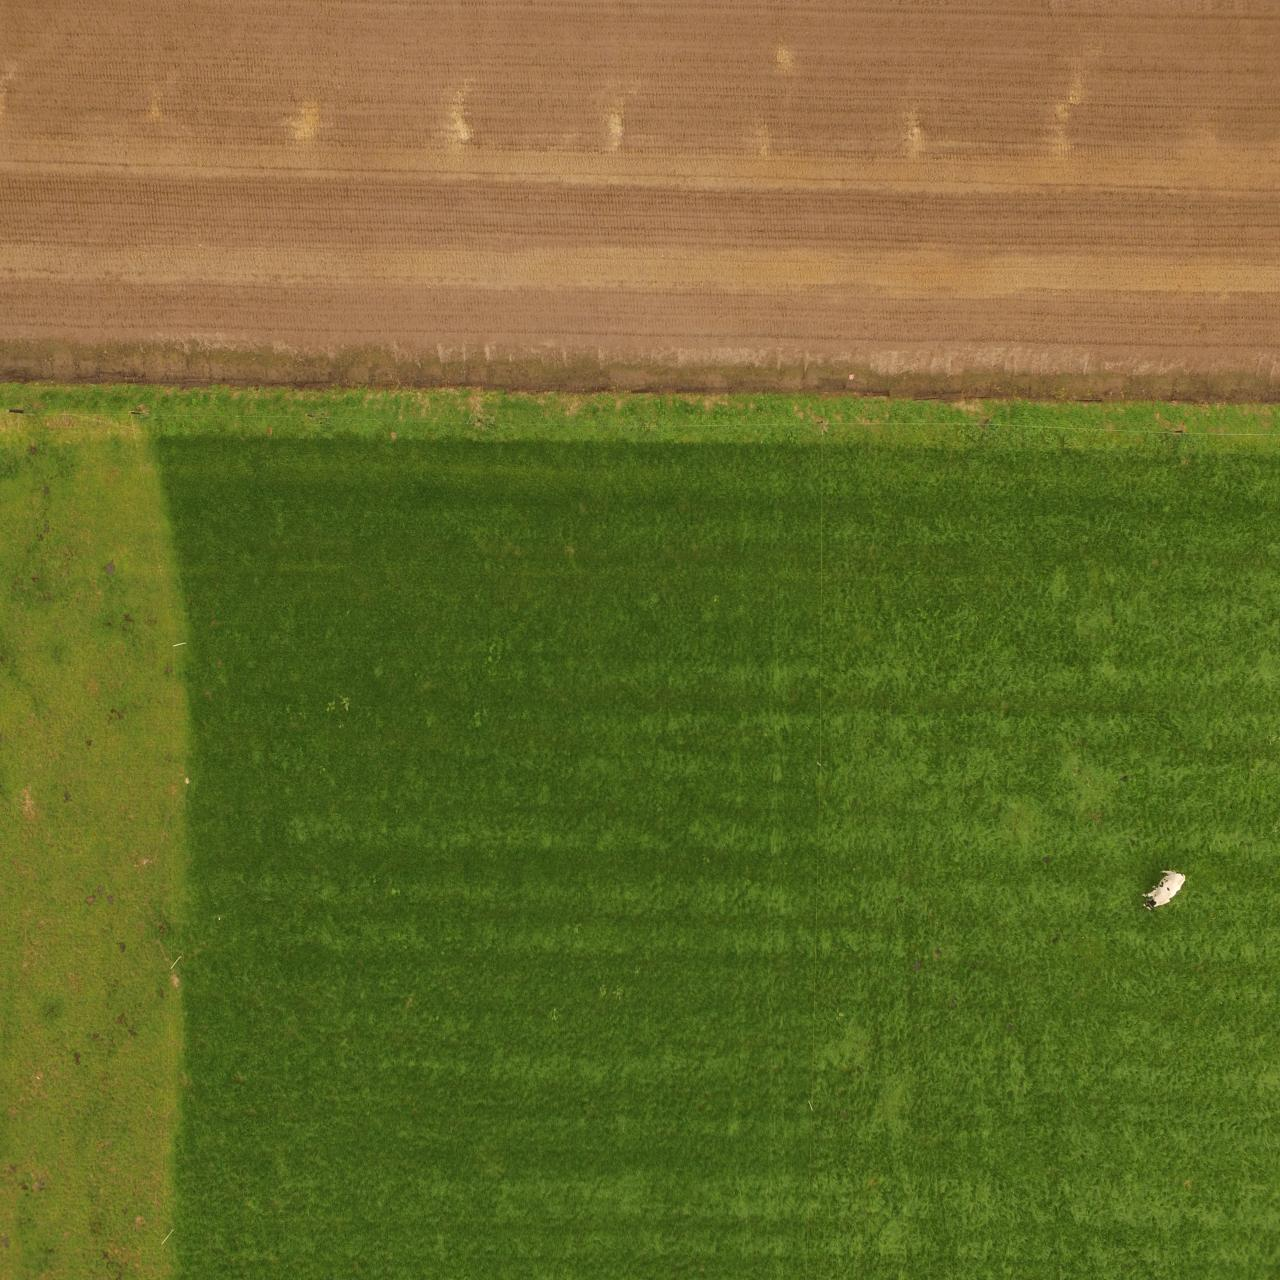cow: (1140, 869, 1187, 910)
